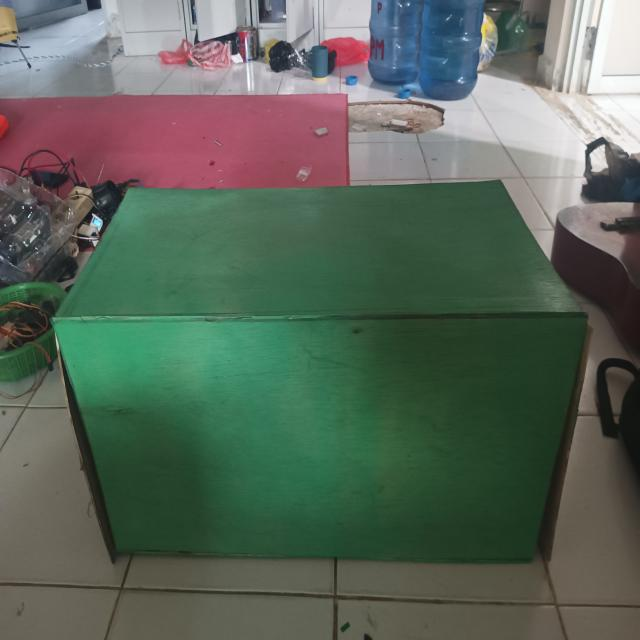green_box: (54, 185, 604, 552)
